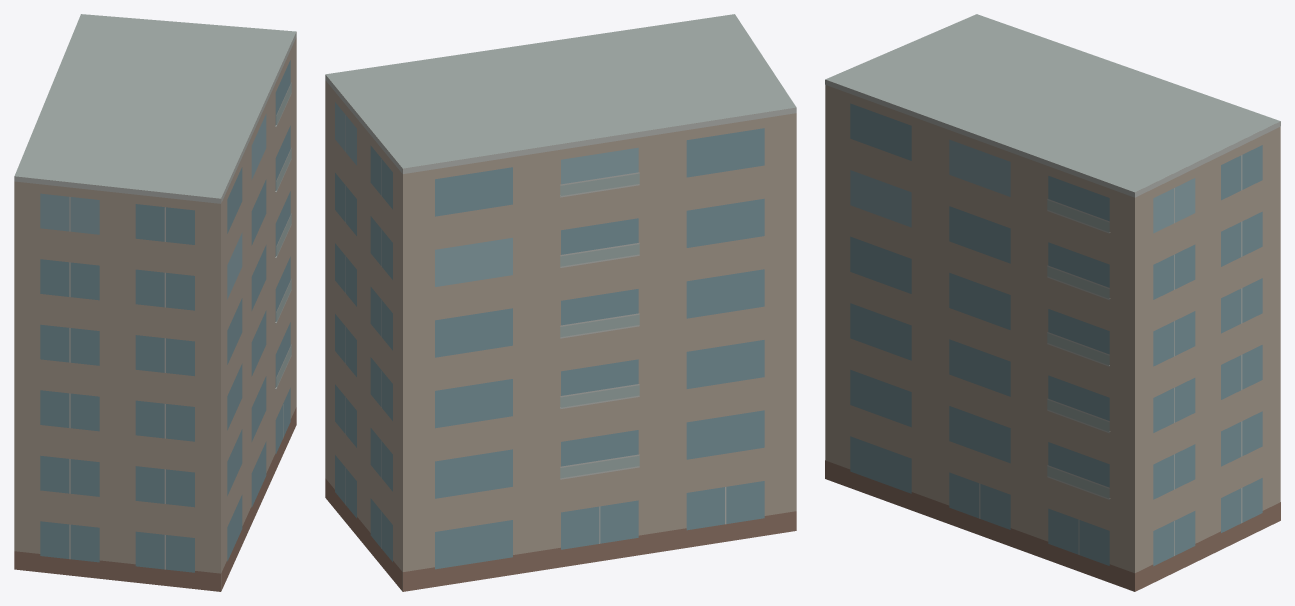
File: survey-upis-32712087.glb
3 renders of one model, left to right at view 1: azimuth 30°, elevation 25°; view 2: azimuth 150°, elevation 25°; view 3: azimuth 270°, elevation 25°, orthographic. The views are drawn at different scales.
Parts seen in each view (by area): view 1: survey-upis-32712087.tmp; view 2: survey-upis-32712087.tmp; view 3: survey-upis-32712087.tmp.
Boxes of the visible parts, <box> form: survey-upis-32712087.tmp: <box>14,14,296,591</box>; survey-upis-32712087.tmp: <box>325,14,796,591</box>; survey-upis-32712087.tmp: <box>825,14,1280,591</box>.
Bounding box in the file's own units: 17.74 × 18.5 × 19.14.
